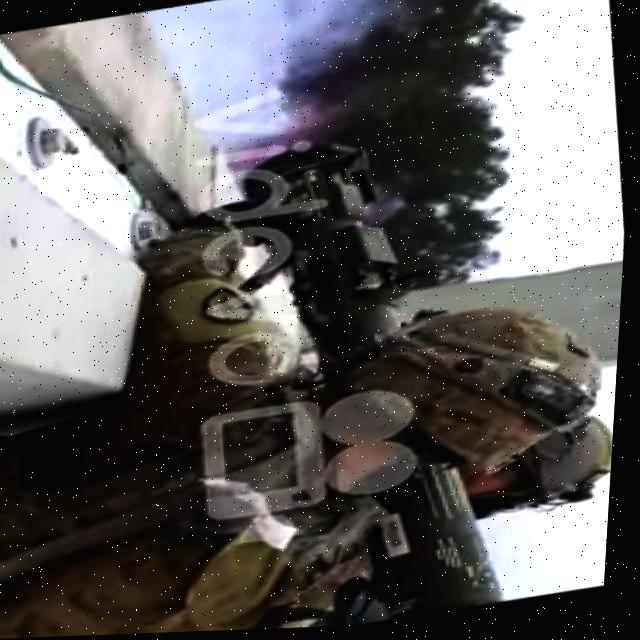rocket: (245, 116, 532, 632)
